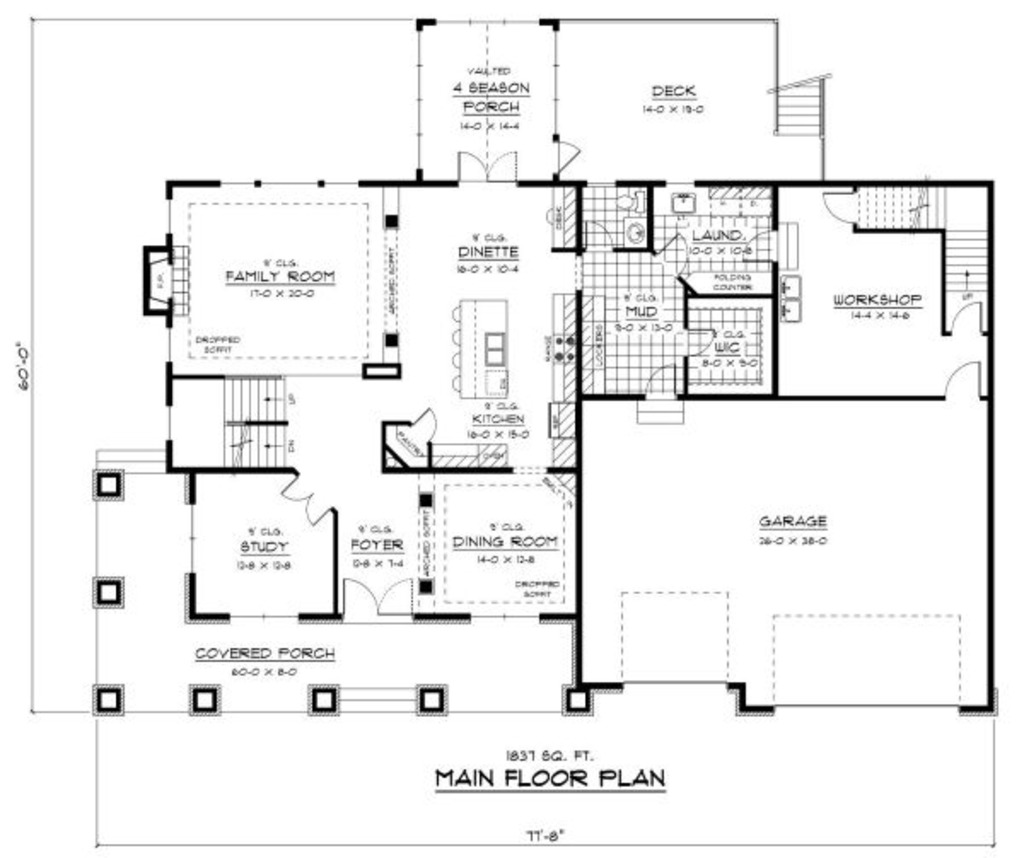door: (338, 579, 416, 619), (277, 474, 329, 526), (457, 153, 519, 185), (945, 362, 983, 404), (945, 301, 988, 336), (824, 188, 858, 229), (411, 401, 438, 443), (641, 366, 678, 395)
kitchen_bar: (447, 293, 514, 402)
large_sink: (615, 186, 648, 215)
small_sink: (619, 218, 648, 245)
stairs: (853, 178, 988, 331), (173, 369, 294, 470), (779, 71, 835, 138)
windows: (216, 173, 367, 193)
